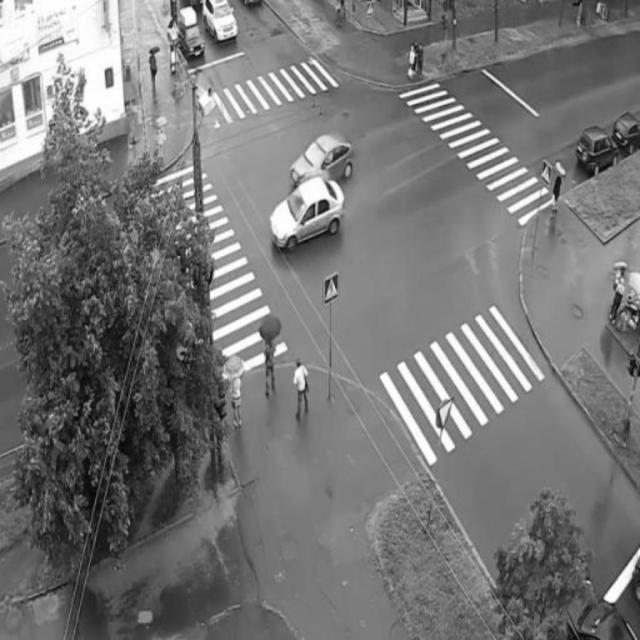accident: (263, 132, 356, 254)
person: (254, 325, 288, 392), (289, 353, 317, 414), (223, 365, 251, 423), (151, 107, 175, 163), (412, 30, 432, 85), (548, 160, 566, 221), (143, 43, 163, 97), (610, 258, 624, 322), (404, 37, 419, 88)
vehicle: (198, 0, 244, 44), (573, 129, 620, 165), (601, 112, 640, 154), (182, 10, 209, 55)
